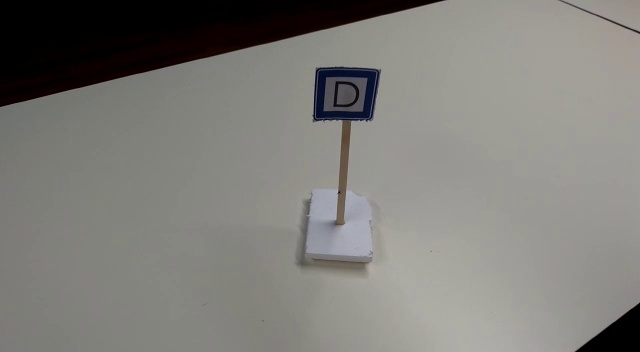durak: (310, 69, 380, 121)
